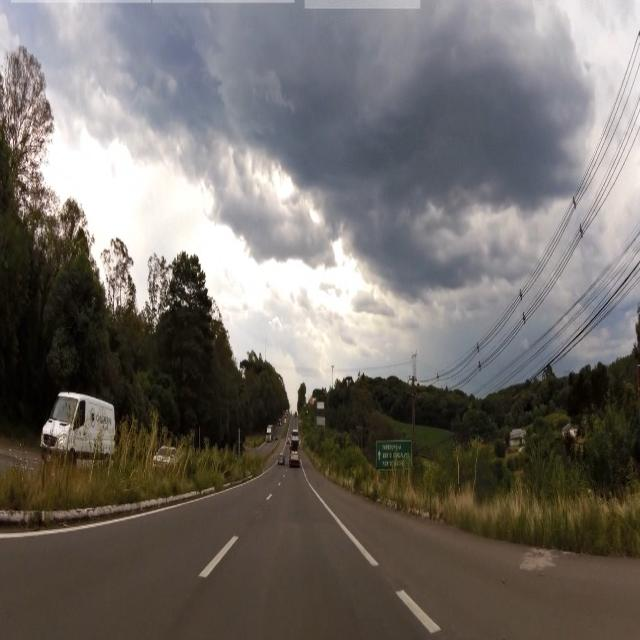I-4: (376, 442, 414, 472)
